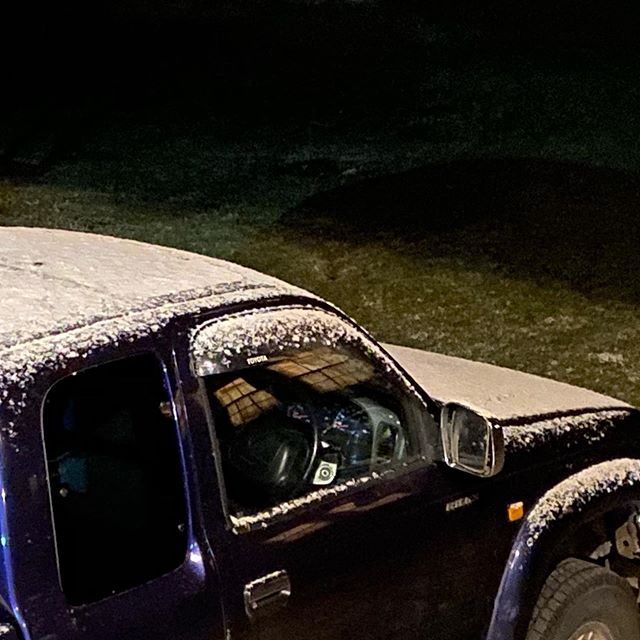car: (1, 237, 599, 640)
